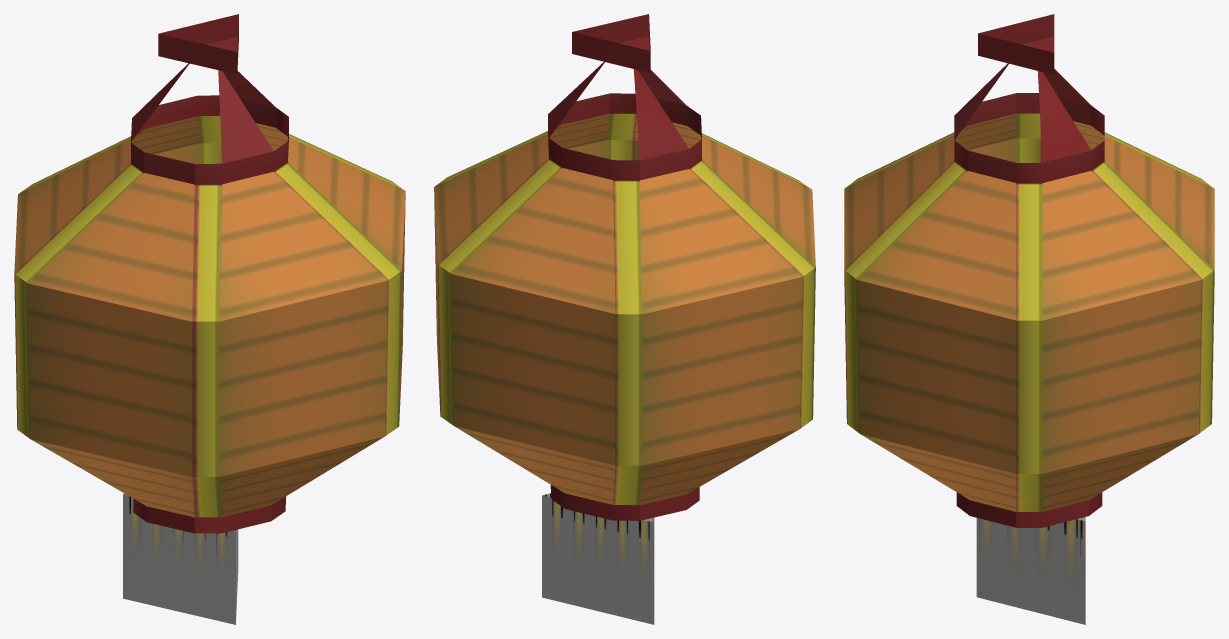
Rendered from Lamp01_Art.fbx.
The picture shows the model from 3 angles, left to right: view 1: azimuth 30°, elevation 25°; view 2: azimuth 150°, elevation 25°; view 3: azimuth 270°, elevation 25°; orthographic projection. The views are drawn at different scales.
Visible parts, largest first — view 1: Lamp01_Art; view 2: Lamp01_Art; view 3: Lamp01_Art.
Boxes of the visible parts, x1,y1,x2,y2 form: Lamp01_Art: (14, 14, 405, 624); Lamp01_Art: (434, 14, 815, 624); Lamp01_Art: (844, 14, 1214, 624).
Bounding box in the file's own units: 1.28 × 1.85 × 1.1.
